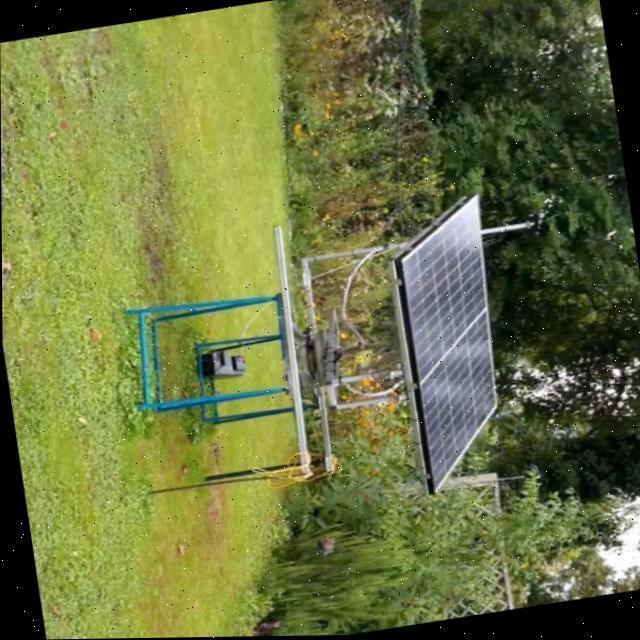Normal Solar Panel: (386, 196, 520, 496)
